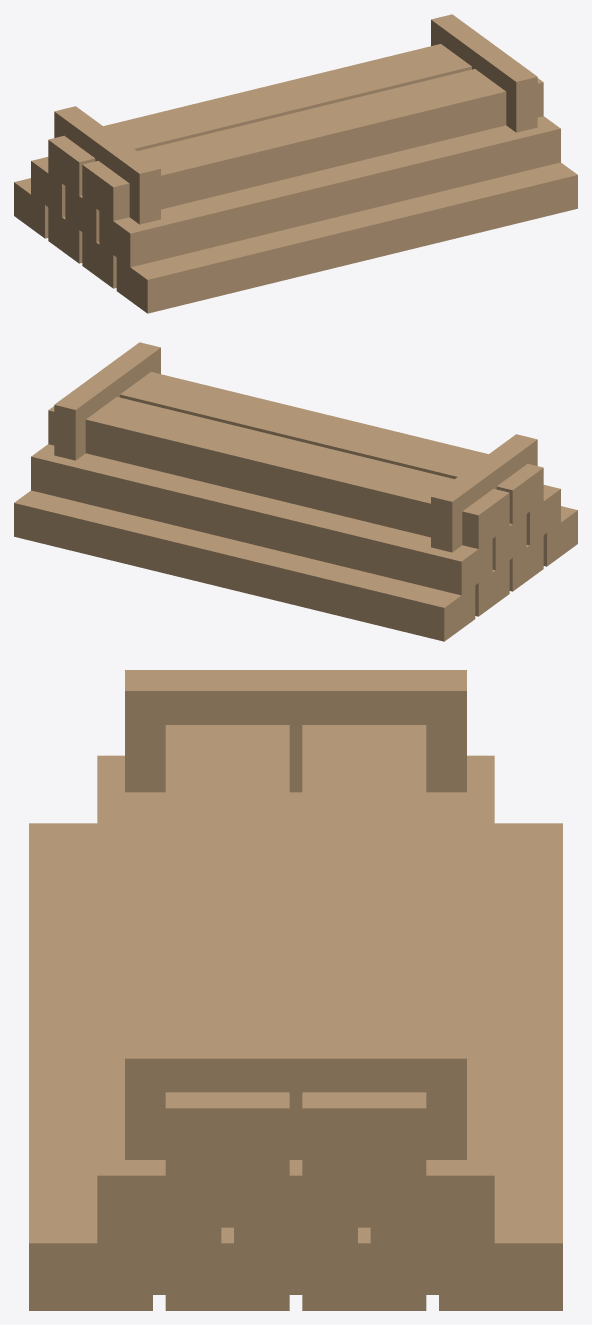
The model's file is LumberPile.gltf.
3 views of the same model, one above another, from view 1: azimuth 30°, elevation 25°; view 2: azimuth 150°, elevation 25°; view 3: azimuth 270°, elevation 25° (orthographic). The views are drawn at different scales.
Parts seen in each view (by area): view 1: LumberPile; view 2: LumberPile; view 3: LumberPile.
Boxes of the visible parts, x1=… form: LumberPile: x1=14, y1=14, x2=577, y2=313; LumberPile: x1=14, y1=342, x2=577, y2=641; LumberPile: x1=29, y1=670, x2=562, y2=1310.
Size of the model in its own units: 1.6 by 0.42 by 0.86.
